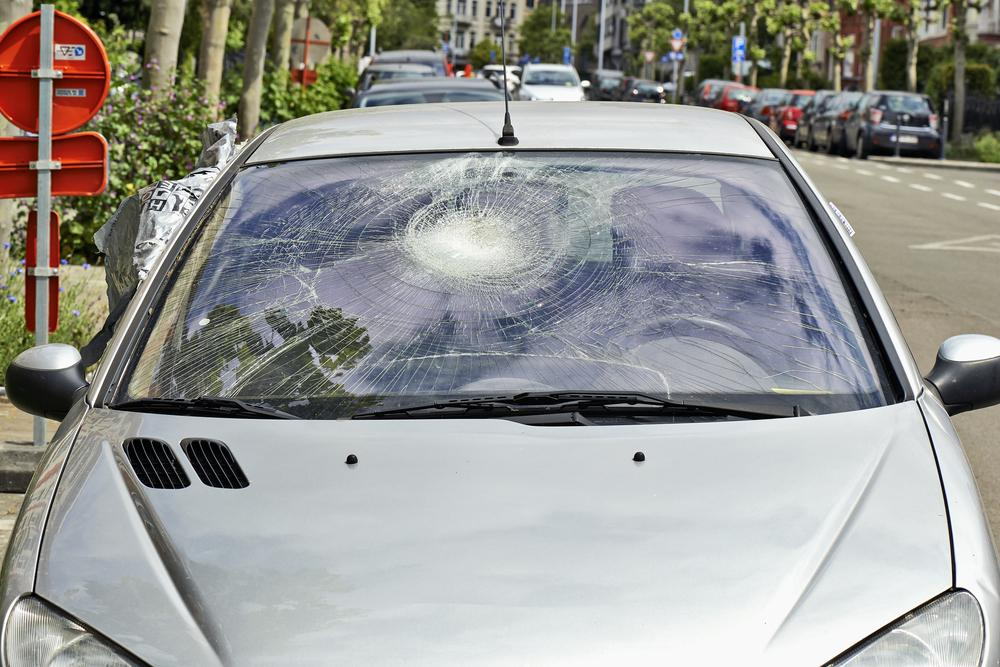glass shatter: (122, 151, 896, 421)
